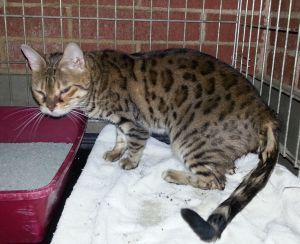bengal: (21, 38, 96, 120)
